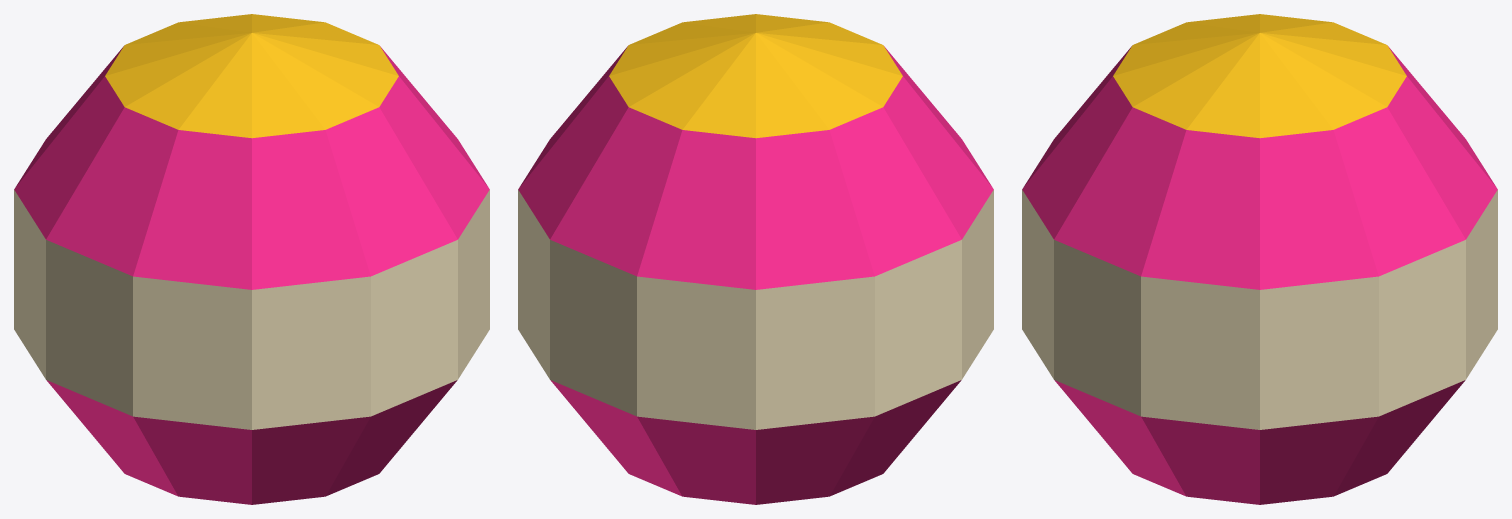
The model's file is ball.glb.
3 views of the same model, side by side, from view 1: azimuth 30°, elevation 25°; view 2: azimuth 150°, elevation 25°; view 3: azimuth 270°, elevation 25° (orthographic).
Visible parts, largest first — view 1: Ball; view 2: Ball; view 3: Ball.
Part boxes in pixels (left/top/right/bottom): Ball: left=14, top=14, right=489, bottom=504; Ball: left=518, top=14, right=993, bottom=504; Ball: left=1022, top=14, right=1497, bottom=504.
Bounding box in the file's own units: 0.2663 × 0.28 × 0.2663.
Materials: 1 (1 with a texture image).
